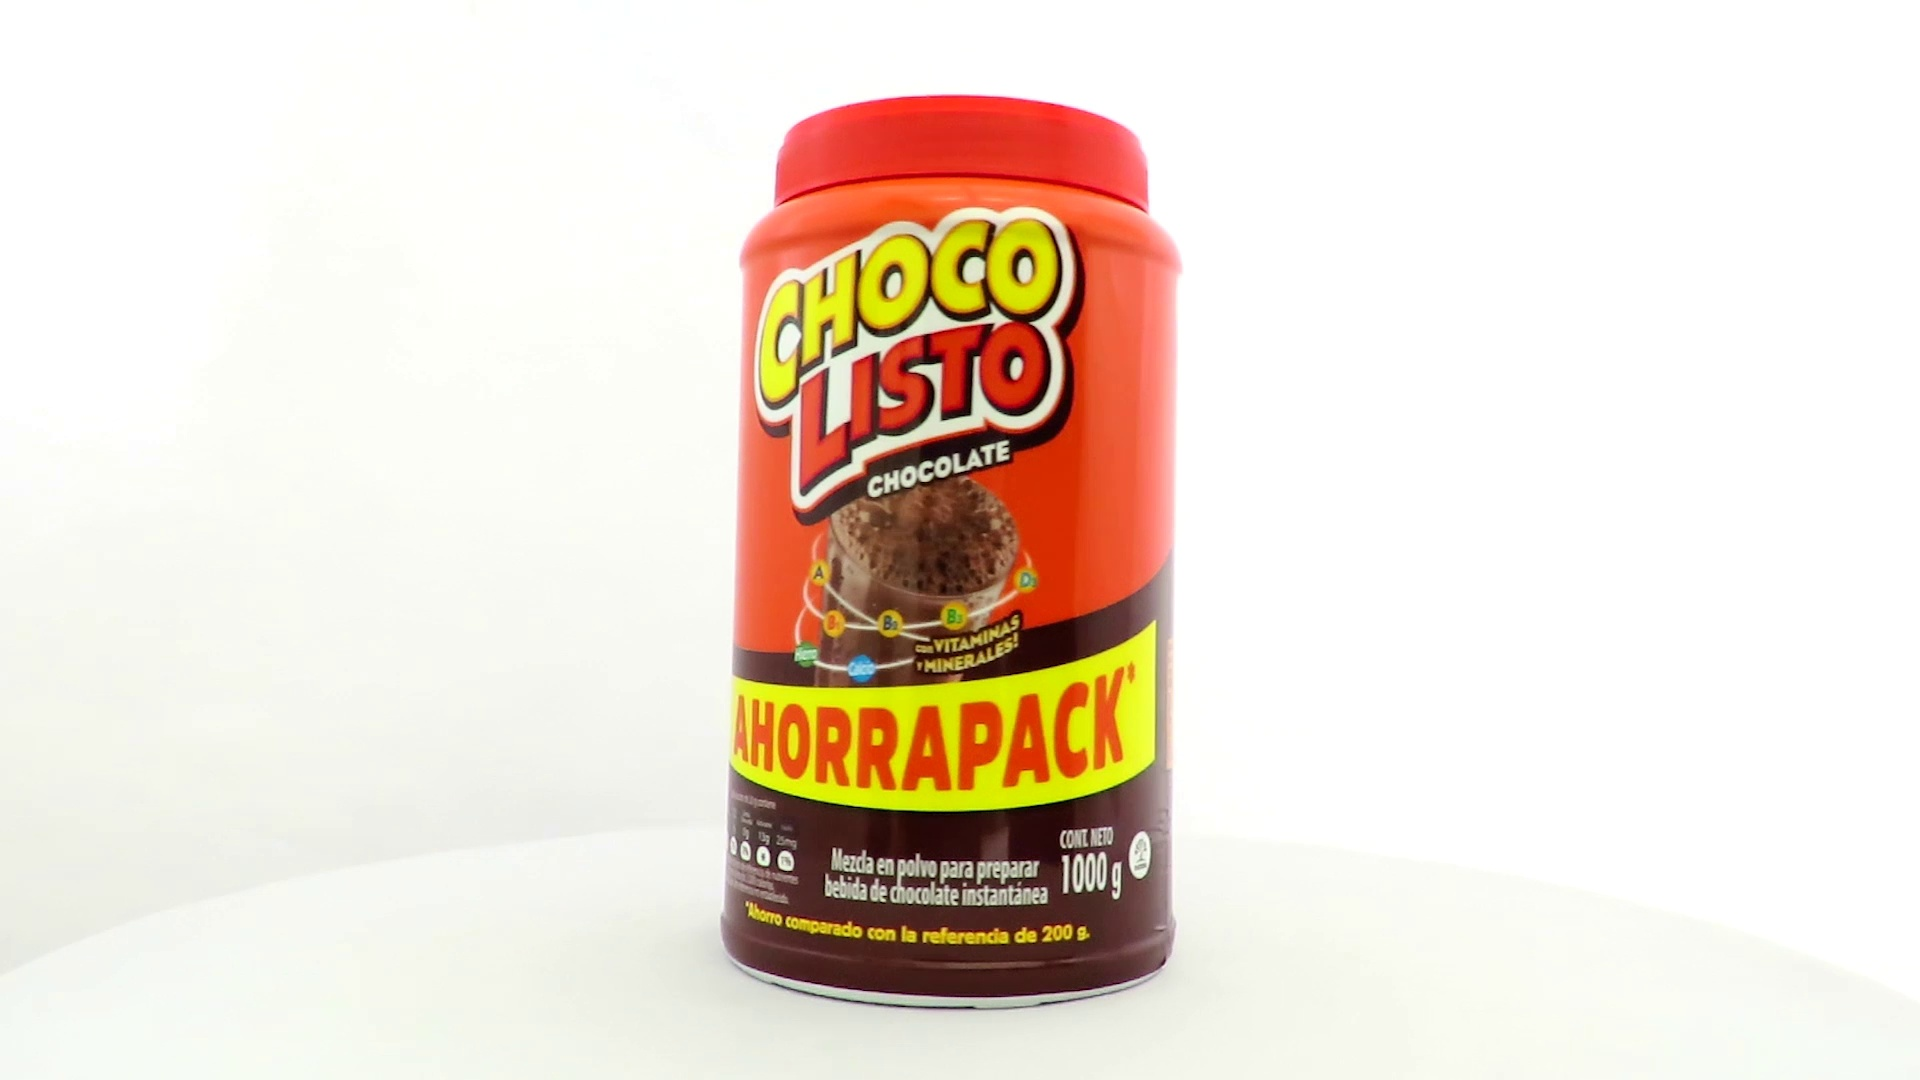COL0170103TRR00100: (715, 90, 1183, 1017)
